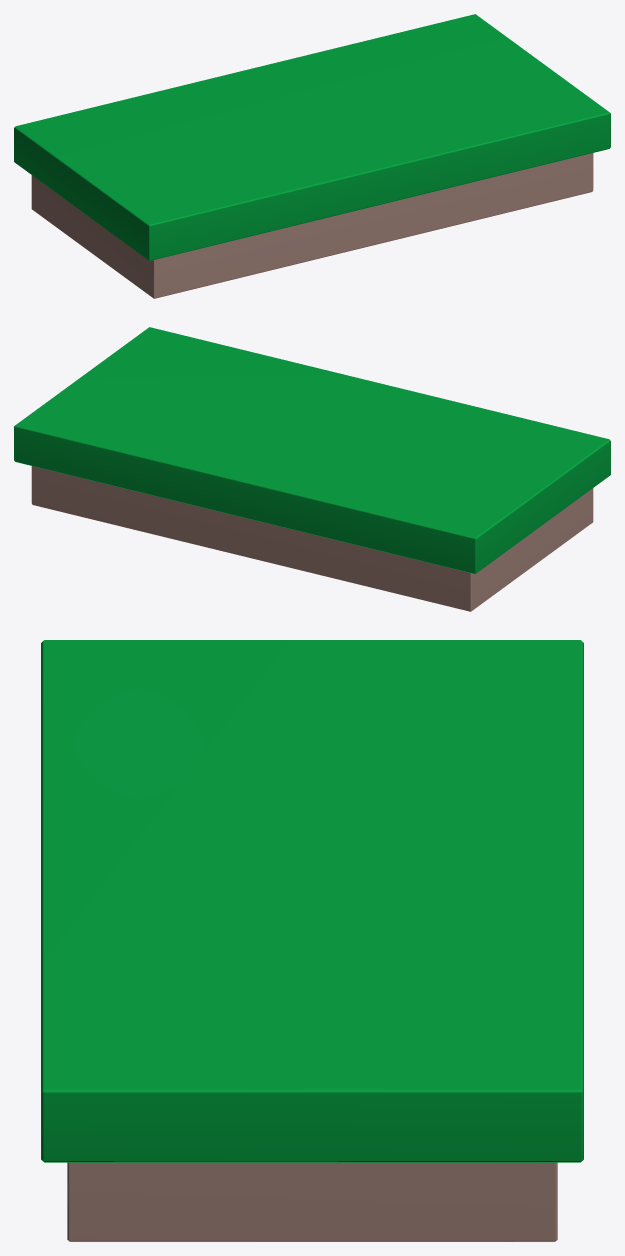
File: Farm_13_Base_1.glb
The picture shows the model from 3 angles, top to bottom: view 1: azimuth 30°, elevation 25°; view 2: azimuth 150°, elevation 25°; view 3: azimuth 270°, elevation 25°; orthographic projection. The views are drawn at different scales.
Parts seen in each view (by area): view 1: Farm_13_Base_1; view 2: Farm_13_Base_1; view 3: Farm_13_Base_1.
Part boxes in pixels (x1,y1,x2,y2): Farm_13_Base_1: [14, 14, 610, 298]; Farm_13_Base_1: [14, 327, 610, 611]; Farm_13_Base_1: [41, 640, 583, 1241].
Bounding box in the file's own units: 15.11 × 2.55 × 7.68.
Materials: 1 (1 with a texture image).
